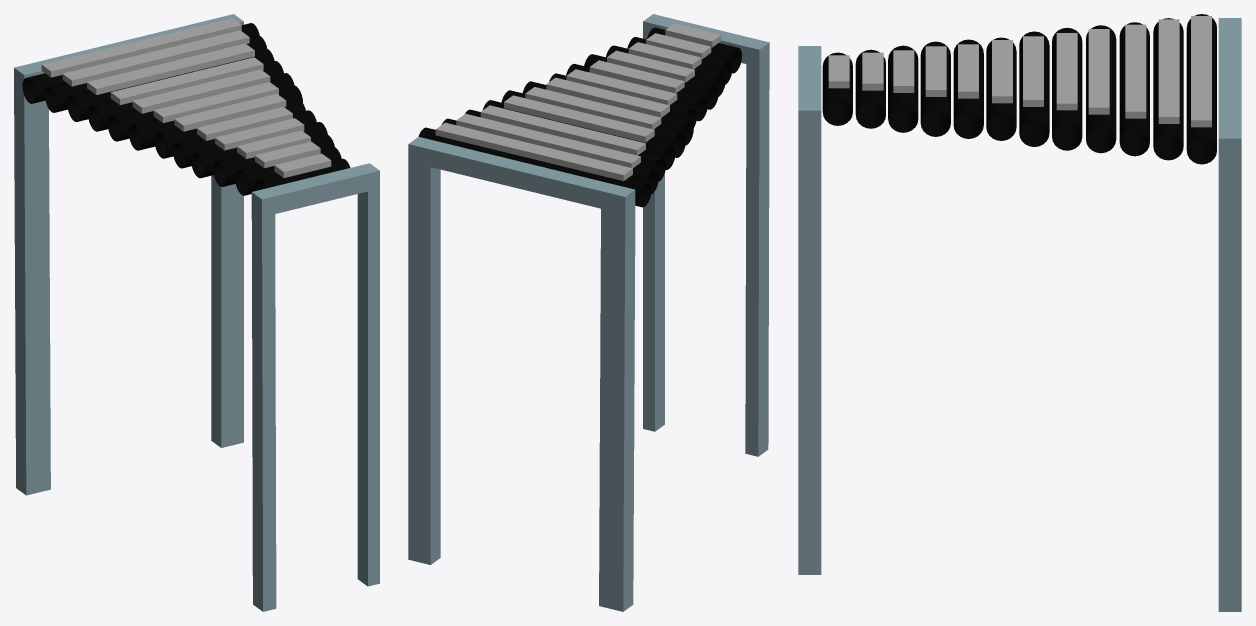
File: Marimba_Test.fbx
3 views of the same model, side by side, from view 1: azimuth 30°, elevation 25°; view 2: azimuth 150°, elevation 25°; view 3: azimuth 270°, elevation 25° (orthographic). The views are drawn at different scales.
Visible parts, largest first — view 1: leg_large, leg_small, tangent12, tangent11, tangent10, tangent9, tangent8, tangent7, tangent6, tangent5, tangent4, pCylinder10 (+14 smaller); view 2: leg_large, leg_small, tangent12, tangent11, tangent10, tangent9, tangent8, pCylinder12, tangent7, tangent6, tangent5, tangent4 (+14 smaller); view 3: leg_large, leg_small, tangent12, tangent11, pCylinder12, pCylinder11, pCylinder10, pCylinder9, pCylinder8, tangent10, pCylinder7, tangent9 (+14 smaller).
Boxes of the visible parts, x1,y1,x2,y2 form: leg_large: (14,14,243,495); leg_small: (251,163,379,611); tangent12: (41,18,241,77); tangent11: (62,30,249,86); tangent10: (87,43,254,94); tangent9: (110,57,263,104); tangent8: (132,69,270,113); tangent7: (153,82,278,122); tangent6: (174,94,286,131); tangent5: (197,107,292,140); tangent4: (215,118,304,150); pCylinder10: (67,48,274,121); leg_large: (408,136,635,611); leg_small: (643,14,769,456); tangent12: (435,122,632,181); tangent11: (456,113,640,168); tangent10: (480,105,645,155); tangent9: (504,95,654,142); tangent8: (525,87,661,129); pCylinder12: (418,127,651,207); tangent7: (546,77,669,117); tangent6: (566,69,677,105); tangent5: (589,60,684,93); tangent4: (607,50,694,82); leg_large: (1218,18,1241,611); leg_small: (798,46,821,574); tangent12: (1191,16,1211,127); tangent11: (1158,19,1179,123); pCylinder12: (1186,14,1216,164); pCylinder11: (1153,18,1183,160); pCylinder10: (1119,22,1149,156); pCylinder9: (1086,25,1116,153); pCylinder8: (1052,27,1082,150); tangent10: (1125,24,1146,118); pCylinder7: (1019,31,1049,146); tangent9: (1088,29,1109,114).
Bounding box in the file's own units: 84.54 × 155 × 129.
